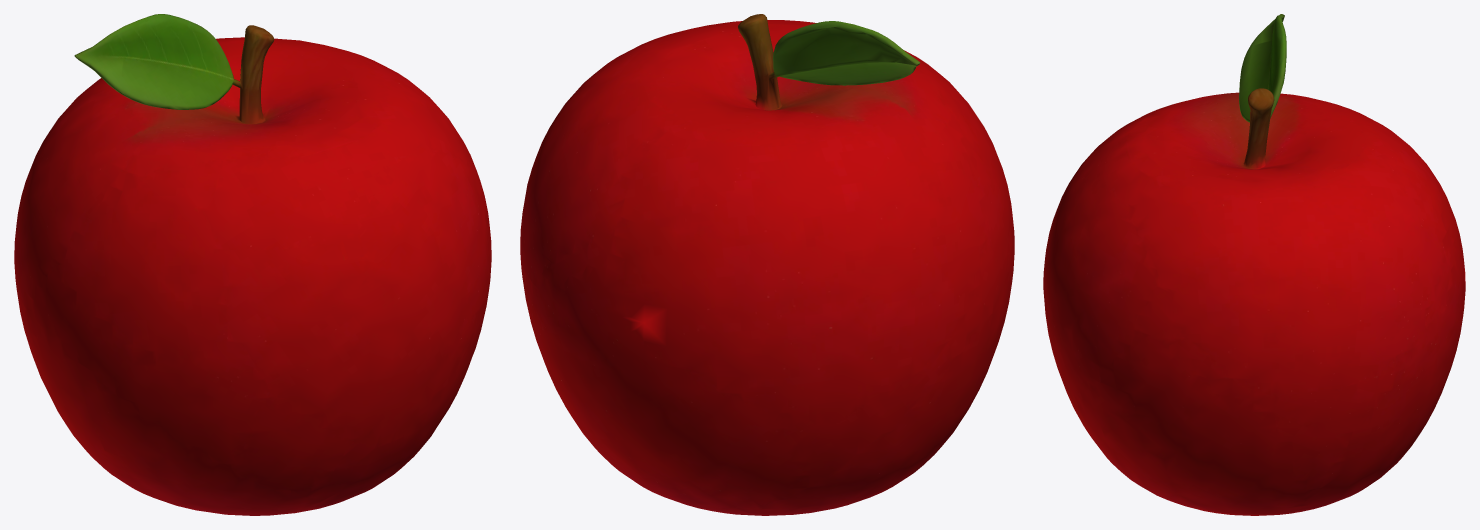
File: red-apple.glb
3 renders of one model, left to right at view 1: azimuth 30°, elevation 25°; view 2: azimuth 150°, elevation 25°; view 3: azimuth 270°, elevation 25°, orthographic. The views are drawn at different scales.
Parts seen in each view (by area): view 1: material; view 2: material; view 3: material.
Boxes of the visible parts, x1,y1,x2,y2 form: material: [14, 14, 491, 515]; material: [520, 14, 1014, 515]; material: [1043, 14, 1465, 515].
Bounding box in the file's own units: 0.9627 × 1.02 × 0.961.
Materials: 1 (1 with a texture image).
